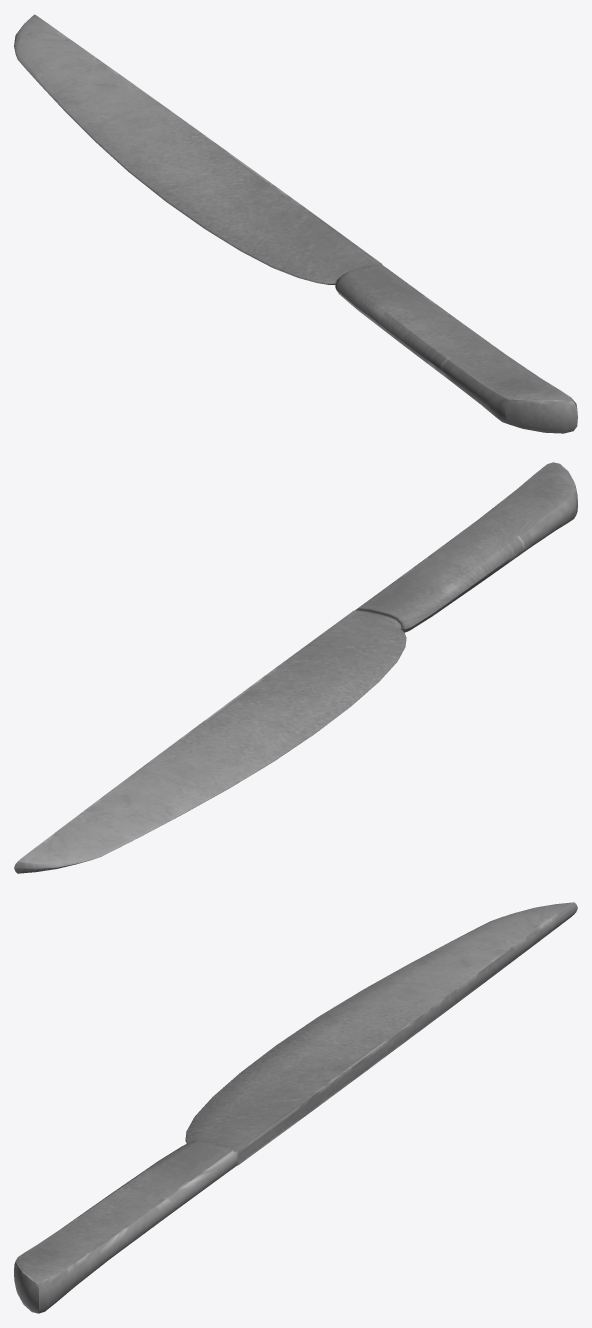
The model's file is KitchenKnife.fbx.
The picture shows the model from 3 angles, top to bottom: view 1: azimuth 30°, elevation 25°; view 2: azimuth 150°, elevation 25°; view 3: azimuth 330°, elevation 25°; orthographic projection.
Parts seen in each view (by area): view 1: Knife; view 2: Knife; view 3: Knife.
Part boxes in pixels (x1=…): Knife: x1=14, y1=14, x2=577, y2=433; Knife: x1=14, y1=462, x2=577, y2=873; Knife: x1=14, y1=902, x2=577, y2=1313.
Size of the model in its own units: 2.17 by 0.8178 by 22.42.
